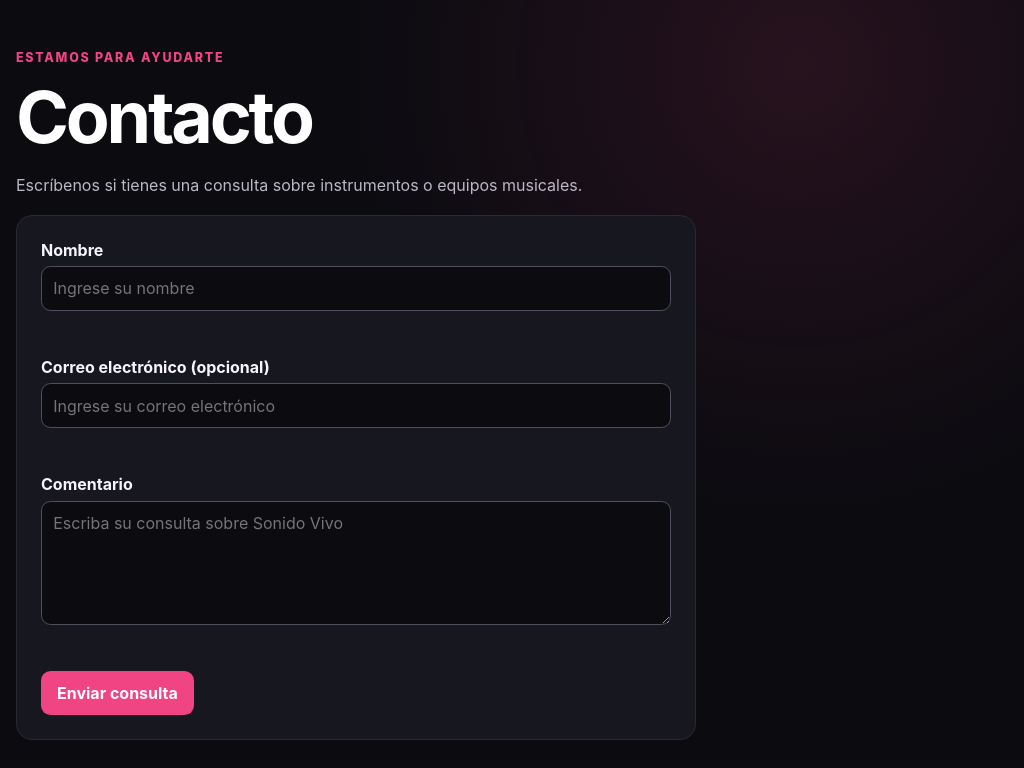
Test: ContactoPage › rechaza un correo con dominio no permitido
The image size is (1024, 768).
Type "Diego" into the field labelled "Nombre" at [356, 288], box [41,266,671,311]
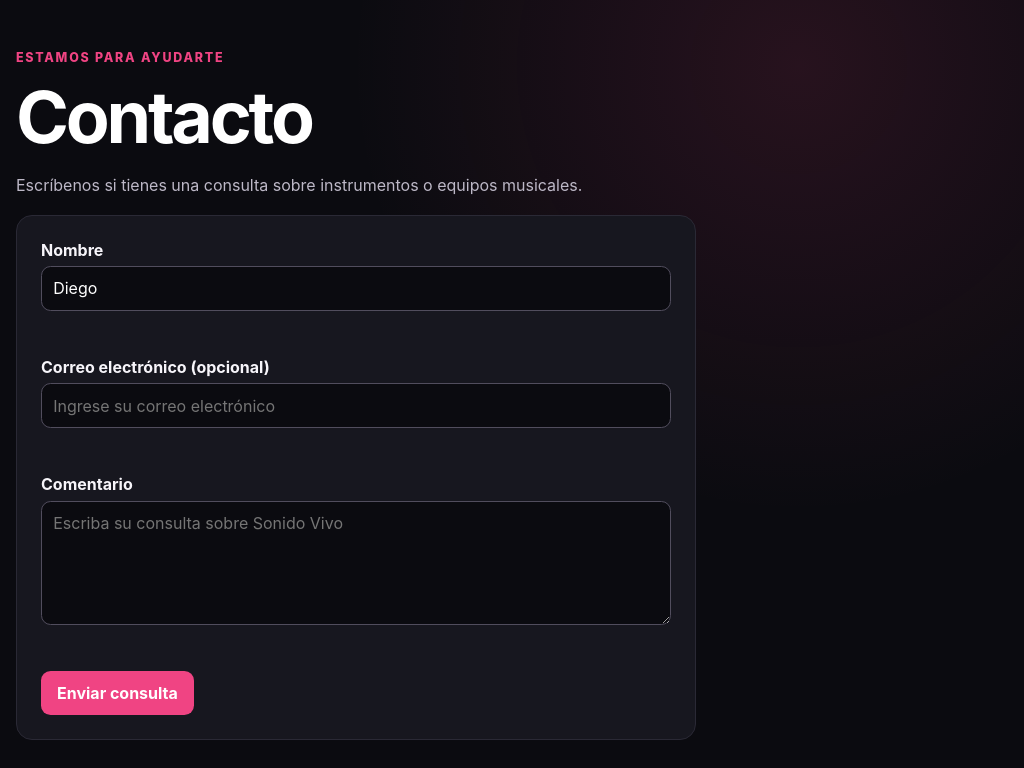
Type "usuario@hotmail.com" into the field labelled "Correo electrónico (opcional)" at [356, 406], box [41,383,671,428]
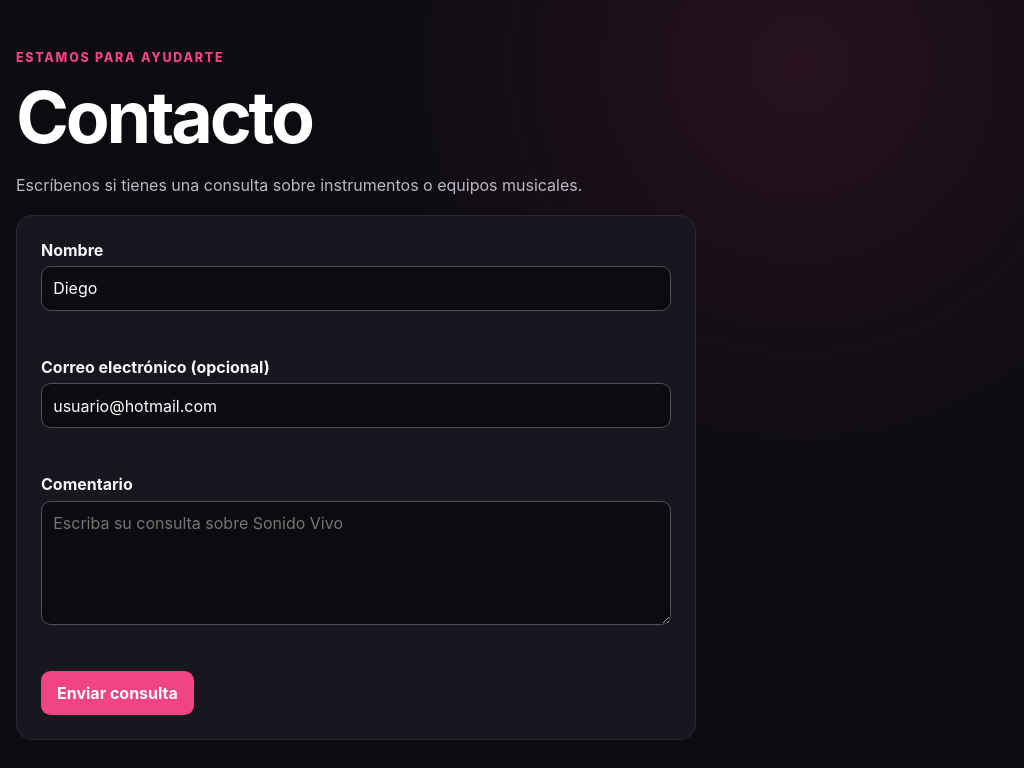
Click the button "Enviar consulta" at [117, 693], box [41,671,194,715]
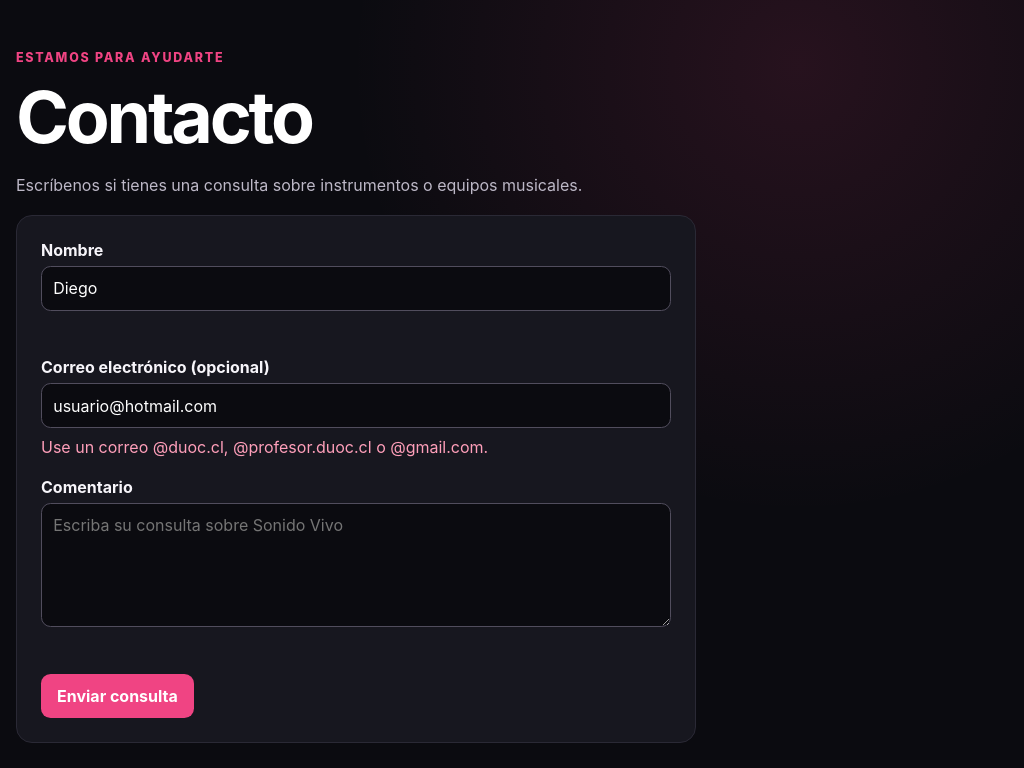
Check: the text "Use un correo @duoc.cl, @profesor.duoc.cl o @gmail.com." is shown, box [41,437,488,457]
